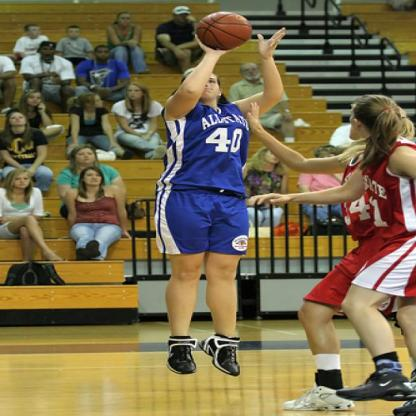basketball: (194, 12, 254, 50)
